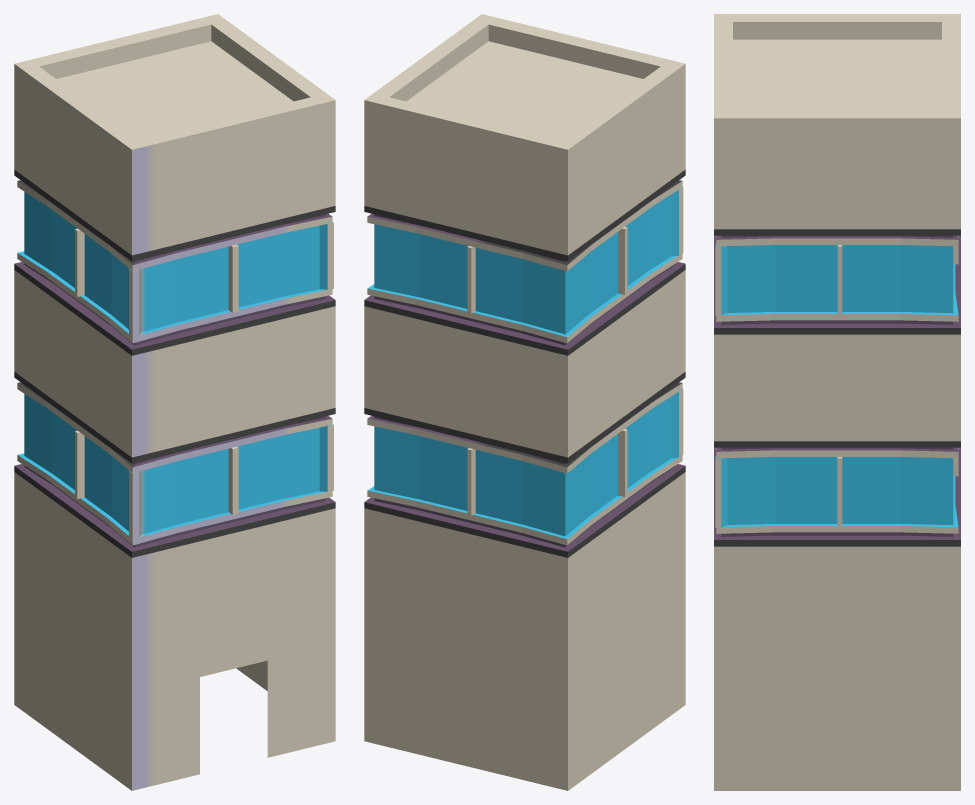
The model's file is batima.fbx.
3 views of the same model, side by side, from view 1: azimuth 30°, elevation 25°; view 2: azimuth 150°, elevation 25°; view 3: azimuth 270°, elevation 25° (orthographic). The views are drawn at different scales.
Visible parts, largest first — view 1: dar; view 2: dar; view 3: dar.
Boxes of the visible parts, box(x1,y1,x2,y2) form: dar: box(14, 14, 335, 790); dar: box(364, 14, 685, 790); dar: box(714, 14, 960, 790).
Size of the model in its own units: 200 by 601 by 200.
